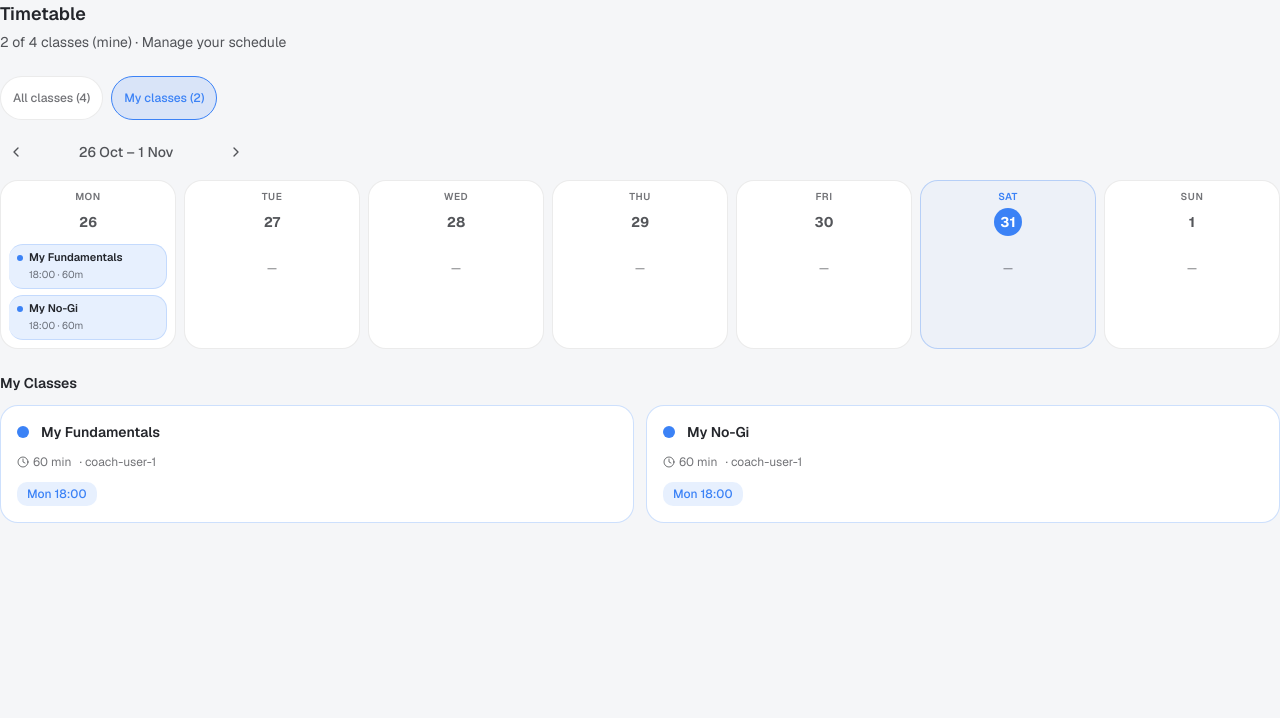
Scenario: Timetable My-classes filter › clicking 'All classes' on a coach view widens the result set
# Filter starts ON for coach — toggle to OFF
Click the button "All classes (4)" at (52, 98), box [0,76,103,120]
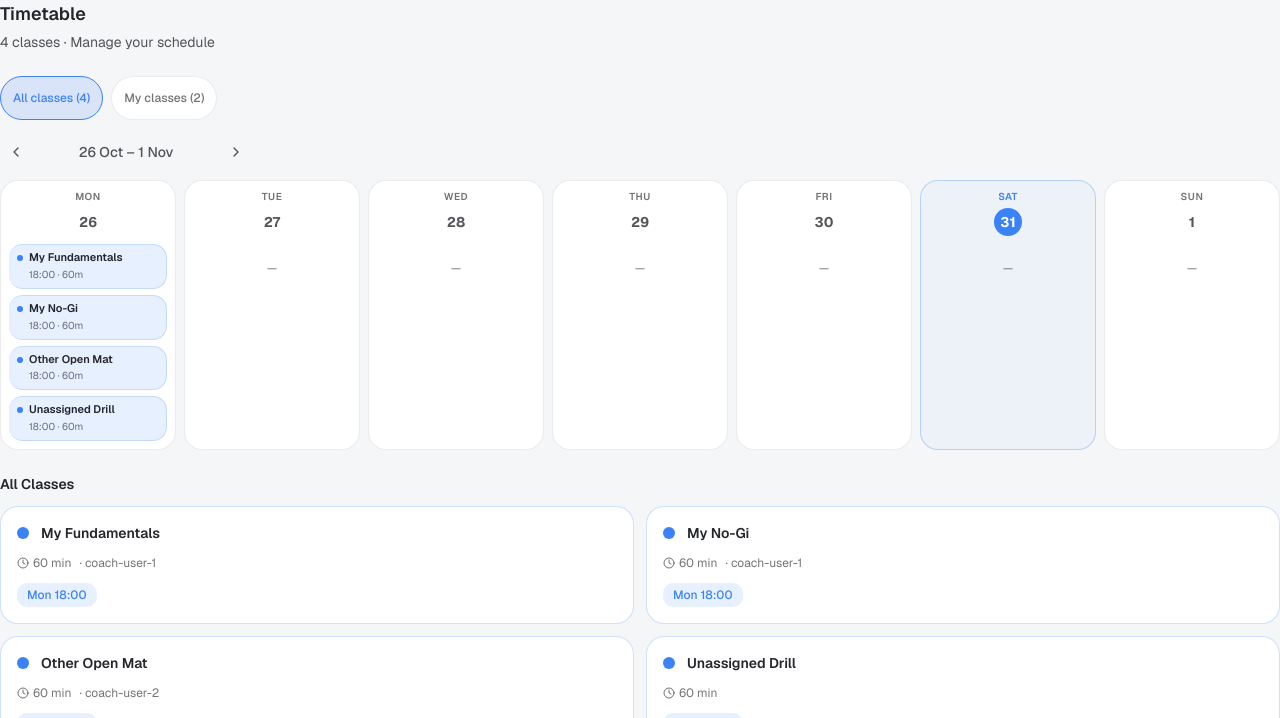
expect the text "Other Open Mat" is shown: met, box [29,352,113,366]
